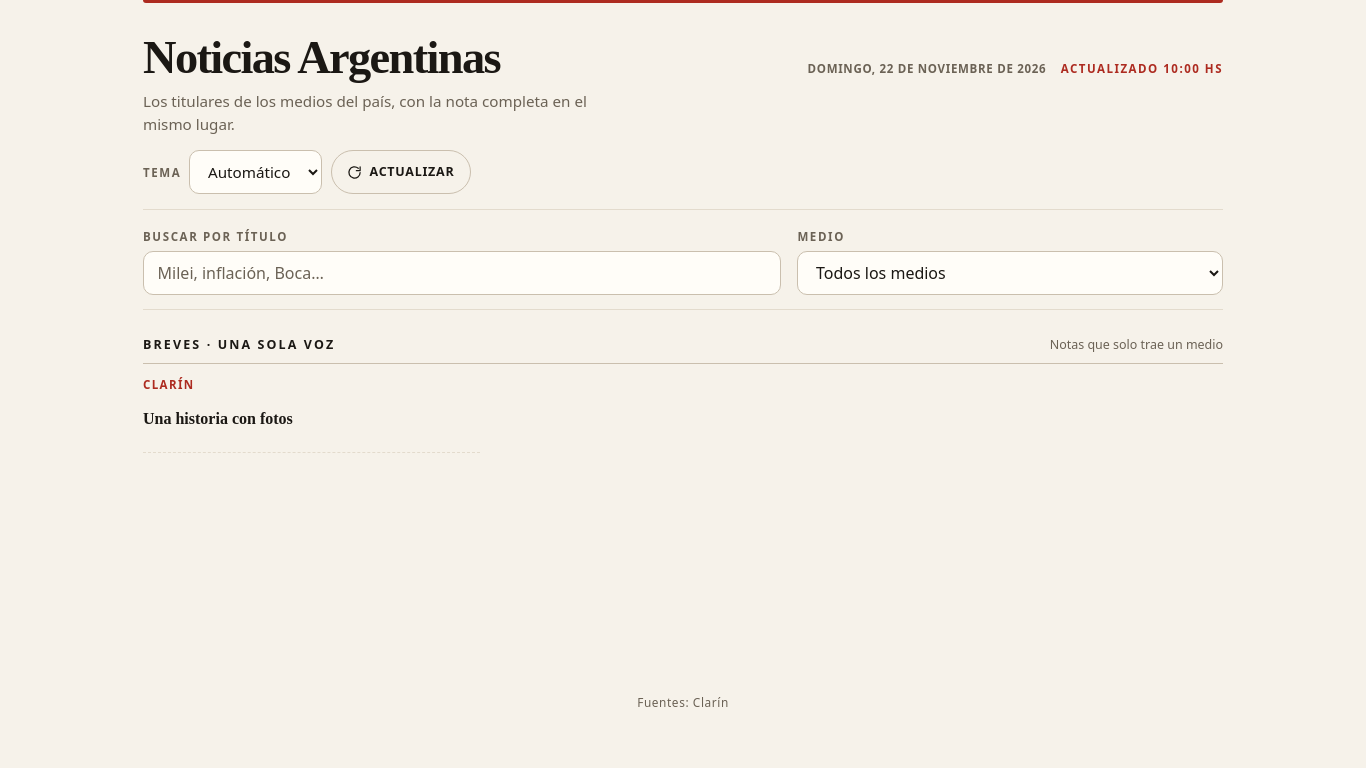
App media integration › keeps media hidden until the reader enables it
What coordinates should you click on to do the following:
click the button "Una historia con fotos"
I would click on:
 (218, 419)
Its box is [143, 397, 480, 441].
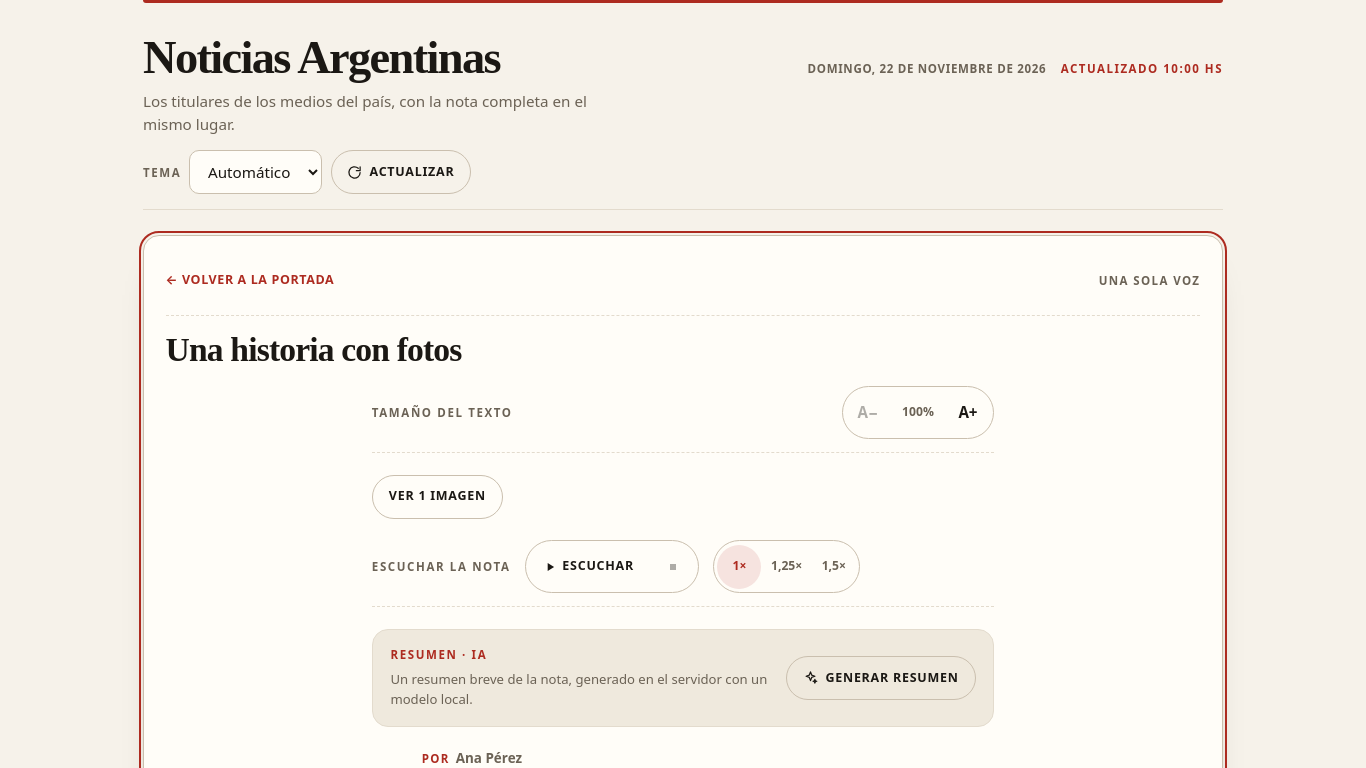
Check: the button "Ver 1 imagen" is shown, box [372, 475, 503, 519]
